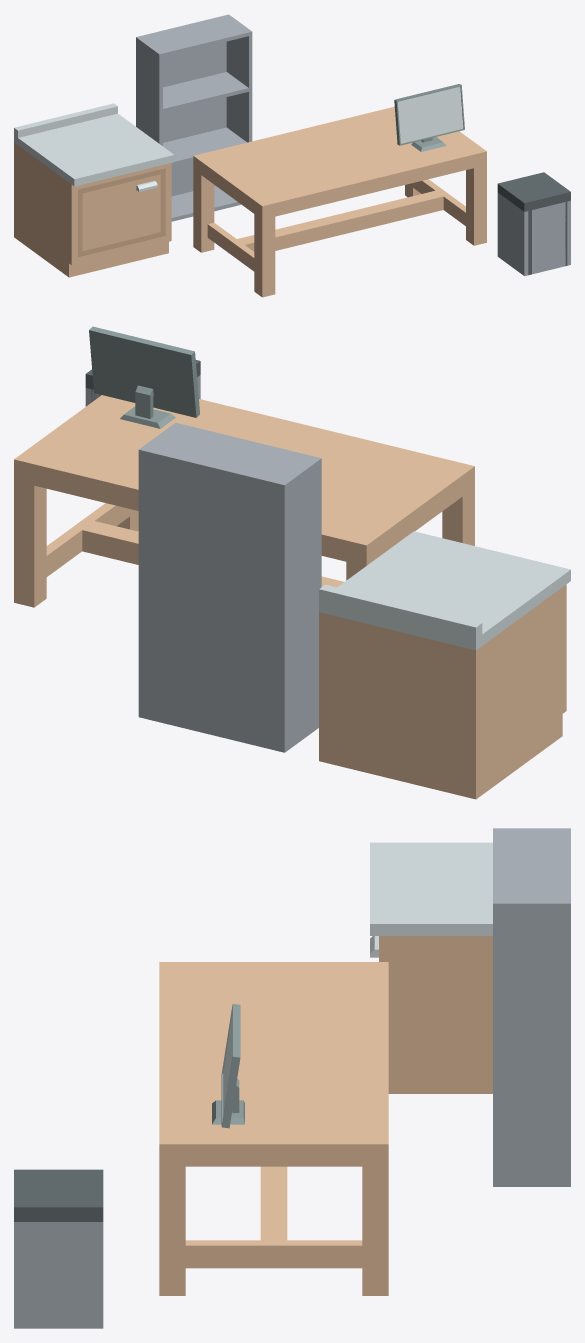
The picture shows the model from 3 angles, top to bottom: view 1: azimuth 30°, elevation 25°; view 2: azimuth 150°, elevation 25°; view 3: azimuth 270°, elevation 25°; orthographic projection. The views are drawn at different scales.
Visible parts, largest first — view 1: table_green__table(Clone), cabinet_blue__kitchenCabinet(Clone), cabinet_blue__door, shelf_orange__shelf_orange back, bin_gray__bin_gray shell, monitor_gray__computerScreen(Clone), shelf_orange__shelf_orange side_l, shelf_orange__shelf_orange side_r, shelf_orange__shelf_orange board3, shelf_orange__shelf_orange board2, bin_gray__bin_gray lid, shelf_orange__shelf_orange board1 (+2 smaller); view 2: cabinet_blue__kitchenCabinet(Clone), table_green__table(Clone), shelf_orange__shelf_orange back, shelf_orange__shelf_orange side_l, monitor_gray__computerScreen(Clone), shelf_orange__shelf_orange board3, shelf_orange__shelf_orange side_r; view 3: table_green__table(Clone), cabinet_blue__kitchenCabinet(Clone), shelf_orange__shelf_orange side_r, bin_gray__bin_gray shell, shelf_orange__shelf_orange board3, bin_gray__bin_gray lid, monitor_gray__computerScreen(Clone).
Boxes of the visible parts, x1=… form: table_green__table(Clone): x1=193, y1=106, x2=486, y2=297; cabinet_blue__kitchenCabinet(Clone): x1=14, y1=103, x2=174, y2=277; cabinet_blue__door: x1=78, y1=168, x2=165, y2=257; shelf_orange__shelf_orange back: x1=140, y1=15, x2=226, y2=196; bin_gray__bin_gray shell: x1=497, y1=192, x2=570, y2=276; monitor_gray__computerScreen(Clone): x1=394, y1=84, x2=464, y2=151; shelf_orange__shelf_orange side_l: x1=136, y1=36, x2=162, y2=145; shelf_orange__shelf_orange side_r: x1=226, y1=14, x2=252, y2=142; shelf_orange__shelf_orange board3: x1=141, y1=16, x2=248, y2=56; shelf_orange__shelf_orange board2: x1=163, y1=72, x2=248, y2=112; bin_gray__bin_gray lid: x1=497, y1=172, x2=570, y2=211; shelf_orange__shelf_orange board1: x1=163, y1=127, x2=246, y2=165; cabinet_blue__kitchenCabinet(Clone): x1=319, y1=531, x2=570, y2=799; table_green__table(Clone): x1=14, y1=395, x2=474, y2=607; shelf_orange__shelf_orange back: x1=144, y1=449, x2=280, y2=751; shelf_orange__shelf_orange side_l: x1=279, y1=457, x2=321, y2=752; monitor_gray__computerScreen(Clone): x1=89, y1=326, x2=199, y2=428; shelf_orange__shelf_orange board3: x1=146, y1=424, x2=315, y2=482; shelf_orange__shelf_orange side_r: x1=138, y1=422, x2=180, y2=718; table_green__table(Clone): x1=159, y1=962, x2=388, y2=1295; cabinet_blue__kitchenCabinet(Clone): x1=370, y1=842, x2=492, y2=1093; shelf_orange__shelf_orange side_r: x1=493, y1=901, x2=570, y2=1186; bin_gray__bin_gray shell: x1=14, y1=1222, x2=103, y2=1328; shelf_orange__shelf_orange board3: x1=493, y1=831, x2=566, y2=900; bin_gray__bin_gray lid: x1=14, y1=1169, x2=103, y2=1221; monitor_gray__computerScreen(Clone): x1=212, y1=1004, x2=244, y2=1128.
Bounding box in the file's own units: 3.35 × 1.4 × 2.49.
